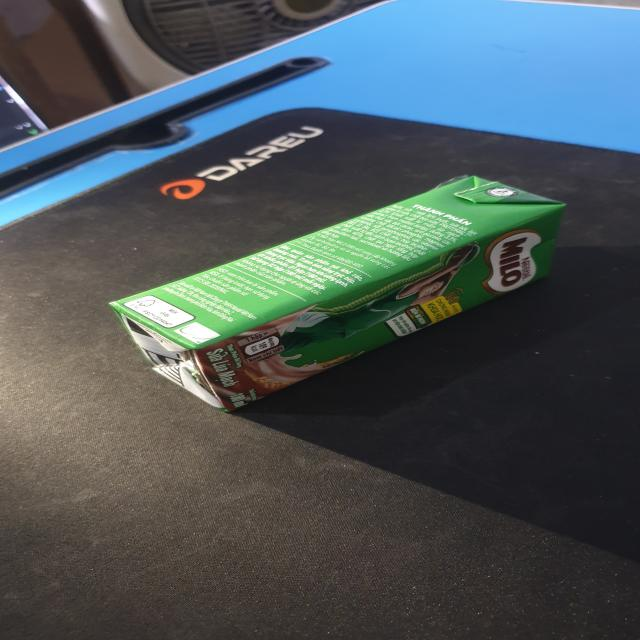Milo: (111, 176, 574, 415)
